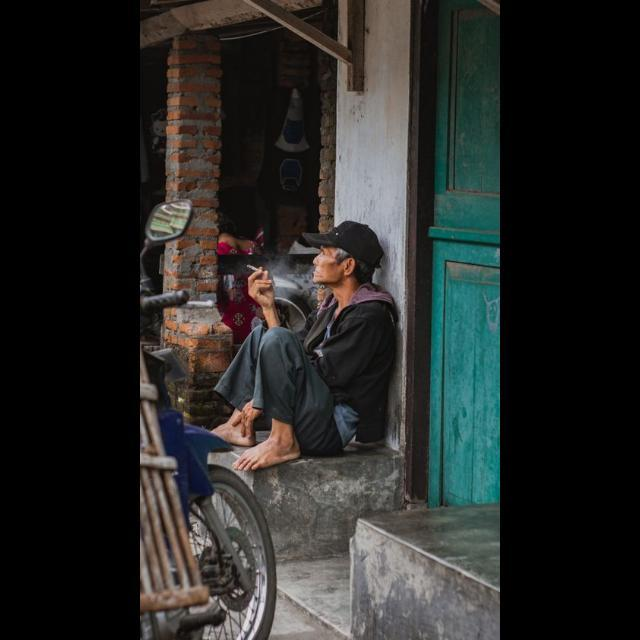rokok: (246, 262, 262, 274)
